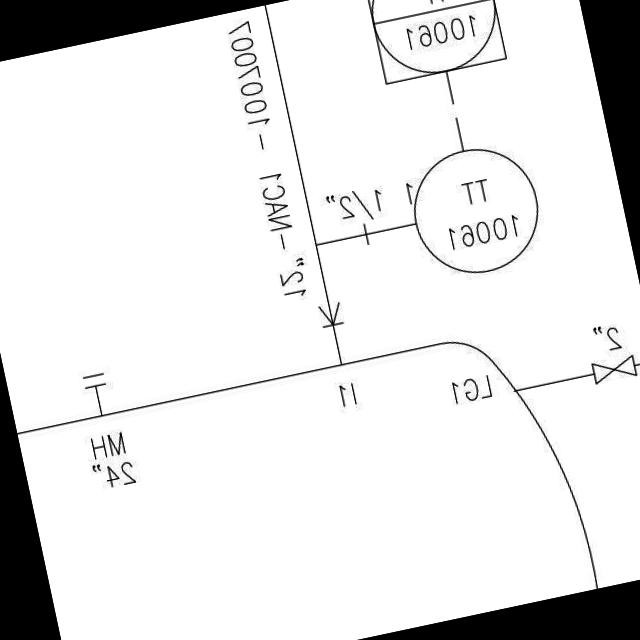GV: (585, 348, 640, 388)
